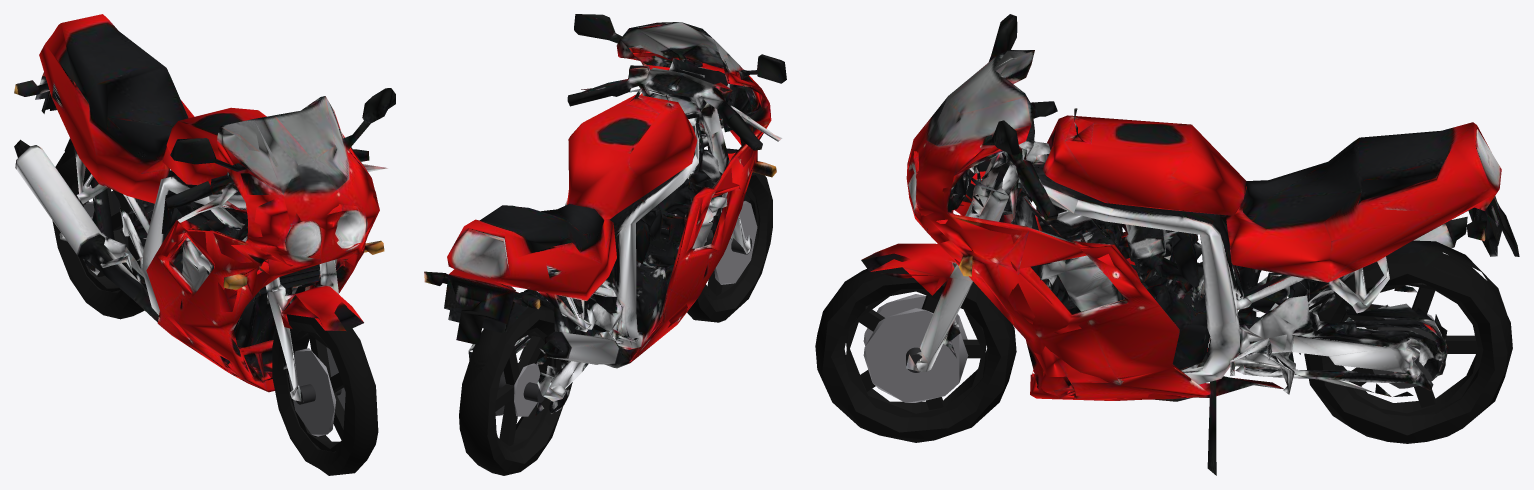
The model's file is sport-bike.glb.
3 renders of one model, left to right at view 1: azimuth 30°, elevation 25°; view 2: azimuth 150°, elevation 25°; view 3: azimuth 270°, elevation 25°, orthographic. The views are drawn at different scales.
Visible parts, largest first — view 1: body, wheel_f, steer, wheel_r; view 2: body, wheel_r, wheel_f, steer; view 3: body, wheel_f, wheel_r, steer.
Part boxes in pixels (bbox=[...]): body: bbox=[14, 14, 395, 392]; wheel_f: bbox=[272, 314, 378, 475]; steer: bbox=[165, 149, 387, 401]; wheel_r: bbox=[52, 143, 146, 319]; body: bbox=[424, 14, 786, 415]; wheel_r: bbox=[459, 305, 562, 475]; wheel_f: bbox=[687, 172, 772, 322]; steer: bbox=[567, 65, 782, 253]; body: bbox=[906, 14, 1519, 475]; wheel_f: bbox=[815, 267, 1016, 442]; wheel_r: bbox=[1304, 252, 1512, 443]; steer: bbox=[861, 101, 1078, 372].
Bounding box in the file's own units: 0.8713 × 1.24 × 2.1.
Materials: 2 (2 with a texture image).
